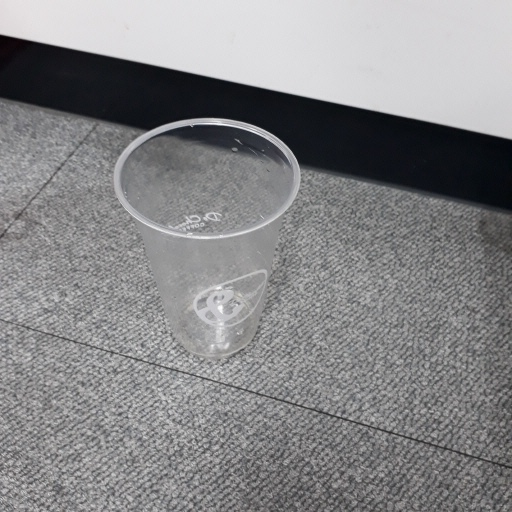Plastic_2: (114, 114, 304, 362)
